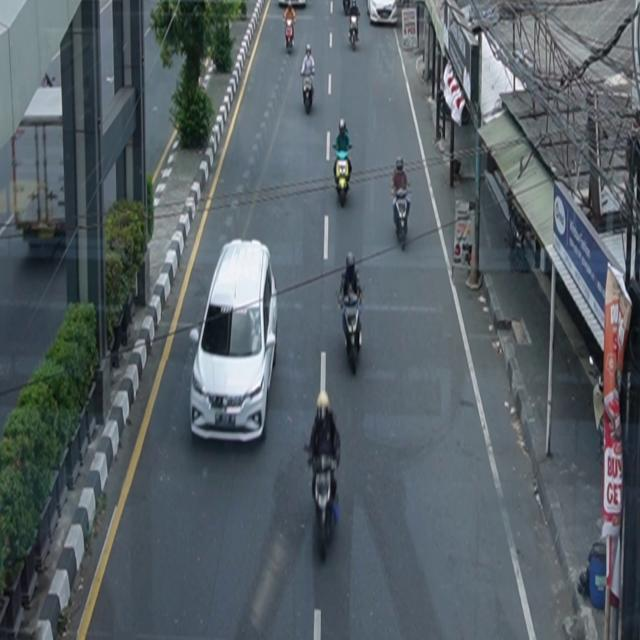car: (190, 239, 279, 444)
